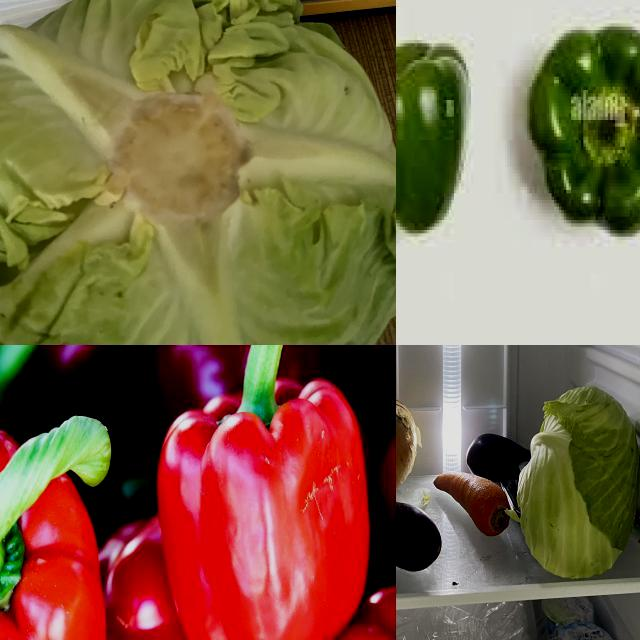bell_pepper: (160, 346, 377, 640), (530, 10, 640, 258), (1, 401, 106, 640), (397, 1, 484, 267)
cabbage: (1, 1, 397, 346), (516, 388, 640, 579)
carrot: (432, 471, 513, 539)
eggplant: (468, 432, 532, 487), (397, 498, 440, 574)
onion: (397, 389, 420, 497)
